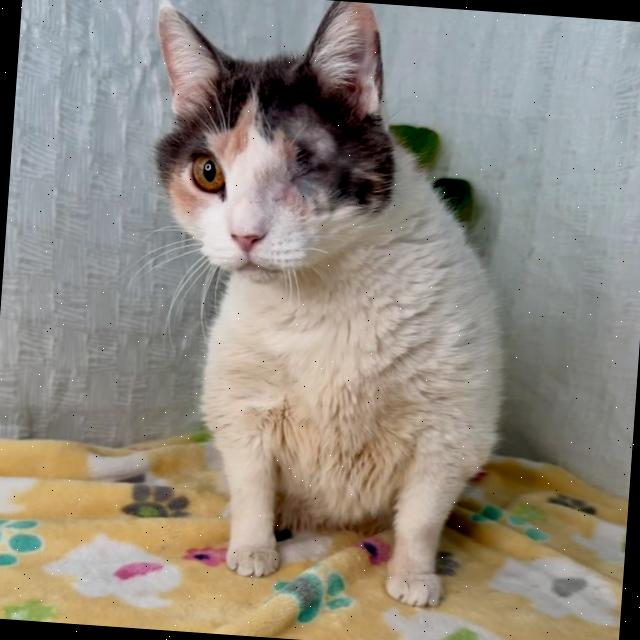calico_cat: (99, 0, 420, 320)
